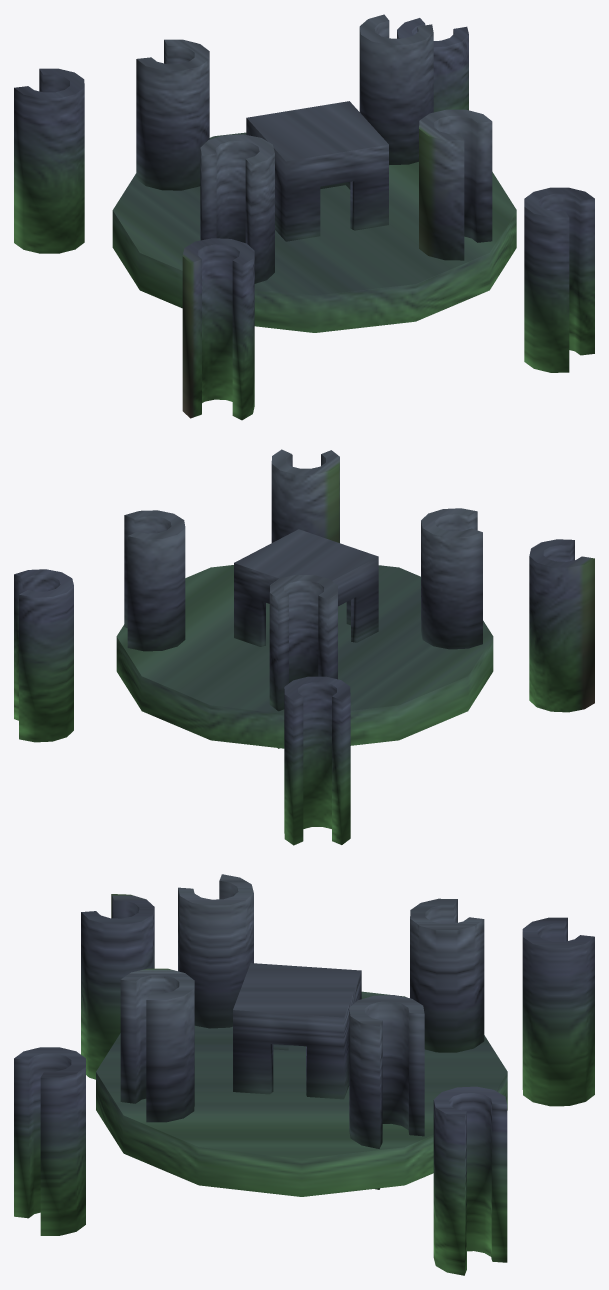
File: Ciudad_piedra01.fbx
3 renders of one model, top to bottom at view 1: azimuth 30°, elevation 25°; view 2: azimuth 150°, elevation 25°; view 3: azimuth 270°, elevation 25°, orthographic. The views are drawn at different scales.
Parts seen in each view (by area): view 1: Ciudad_piedra01; view 2: Ciudad_piedra01; view 3: Ciudad_piedra01.
Part boxes in pixels (x1,y1,x2,y2): Ciudad_piedra01: (14, 14, 594, 420); Ciudad_piedra01: (14, 449, 594, 845); Ciudad_piedra01: (14, 874, 594, 1275).
Size of the model in its own units: 42.27 by 18.57 by 46.39.
